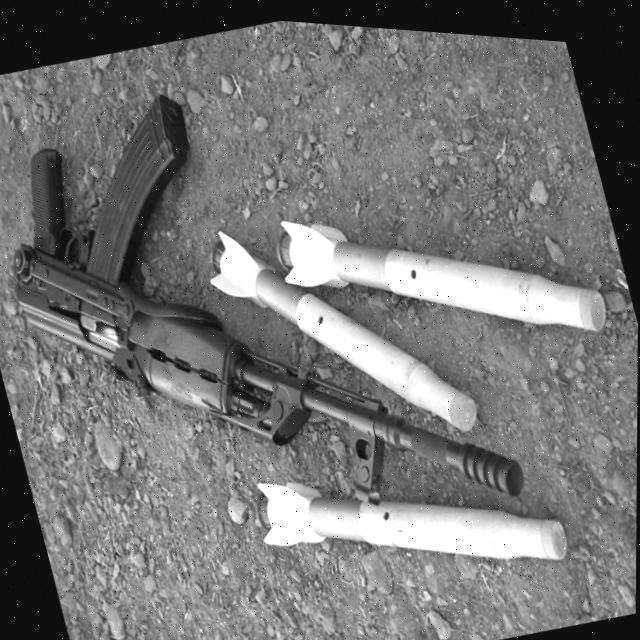firearm: (0, 15, 529, 600)
grenade: (267, 137, 611, 400), (195, 171, 483, 480), (247, 403, 572, 626)
